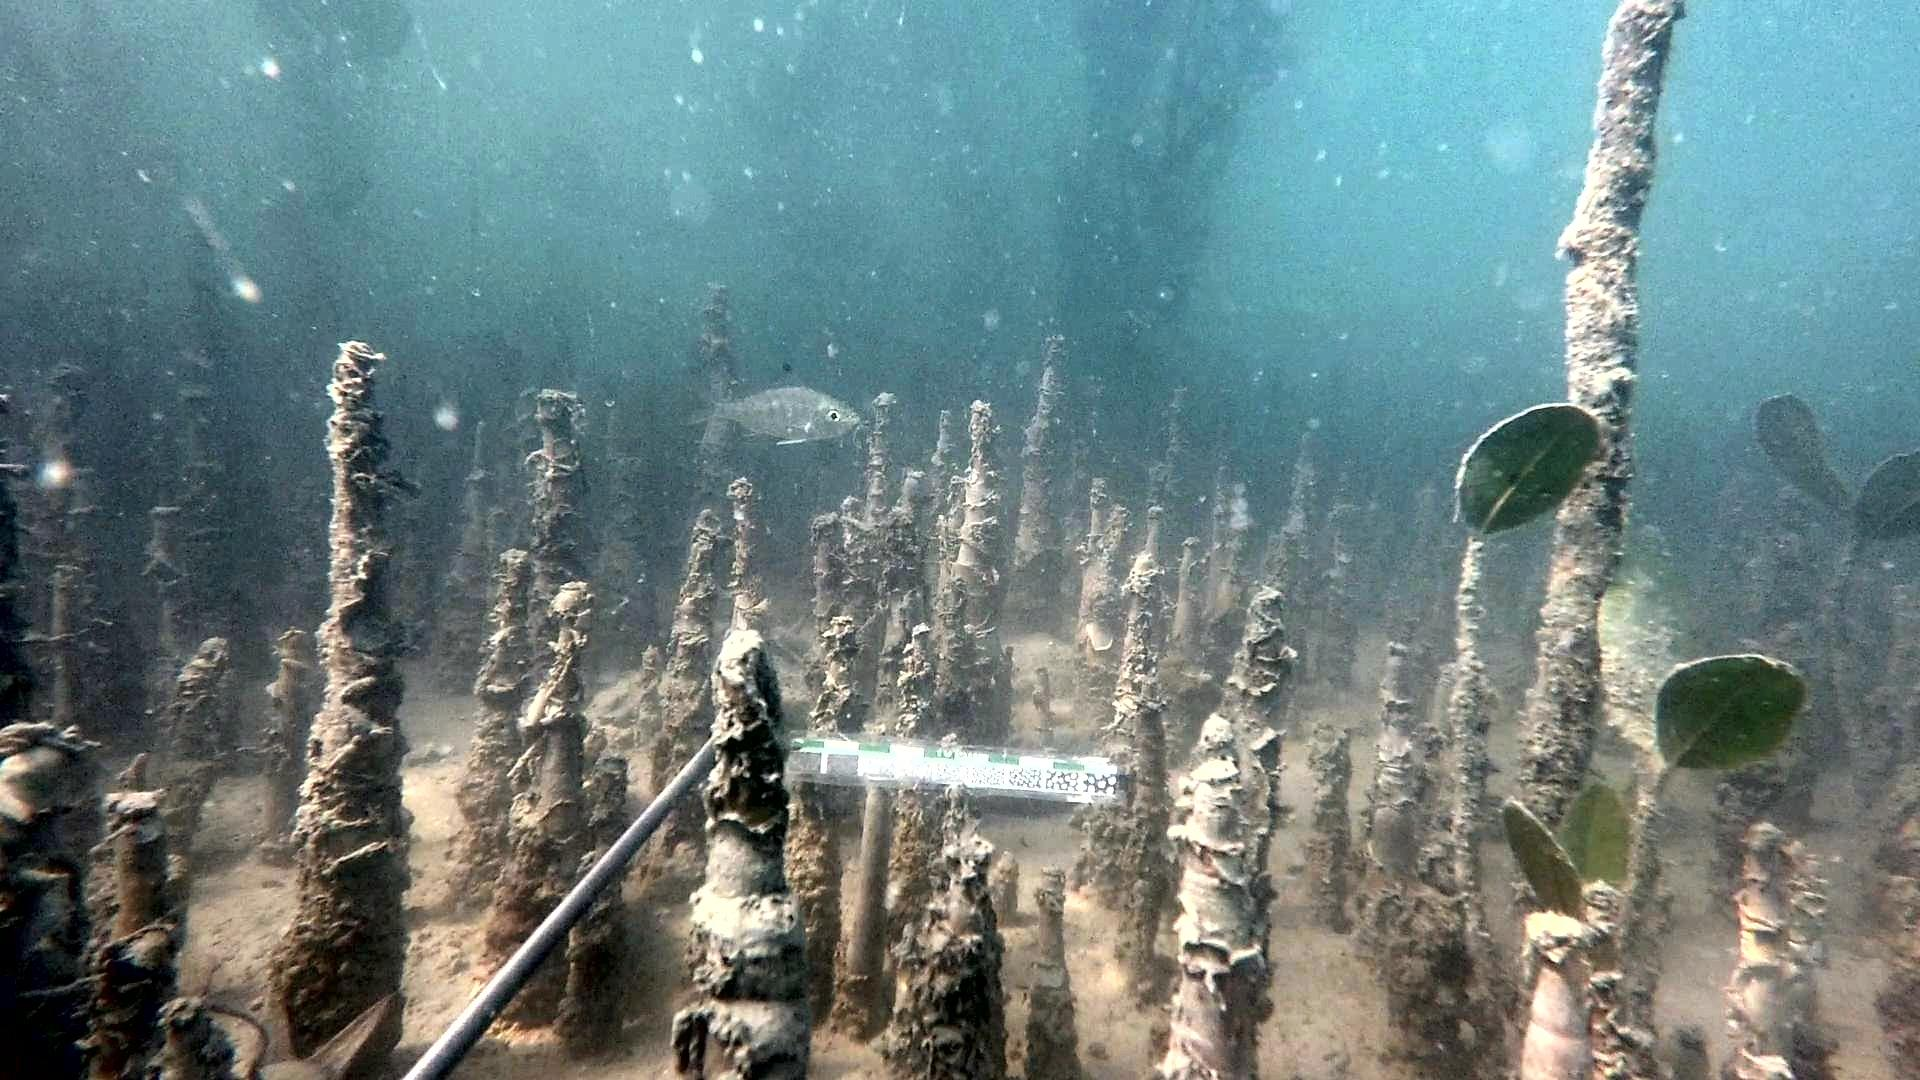gerres: (688, 359, 863, 447)
